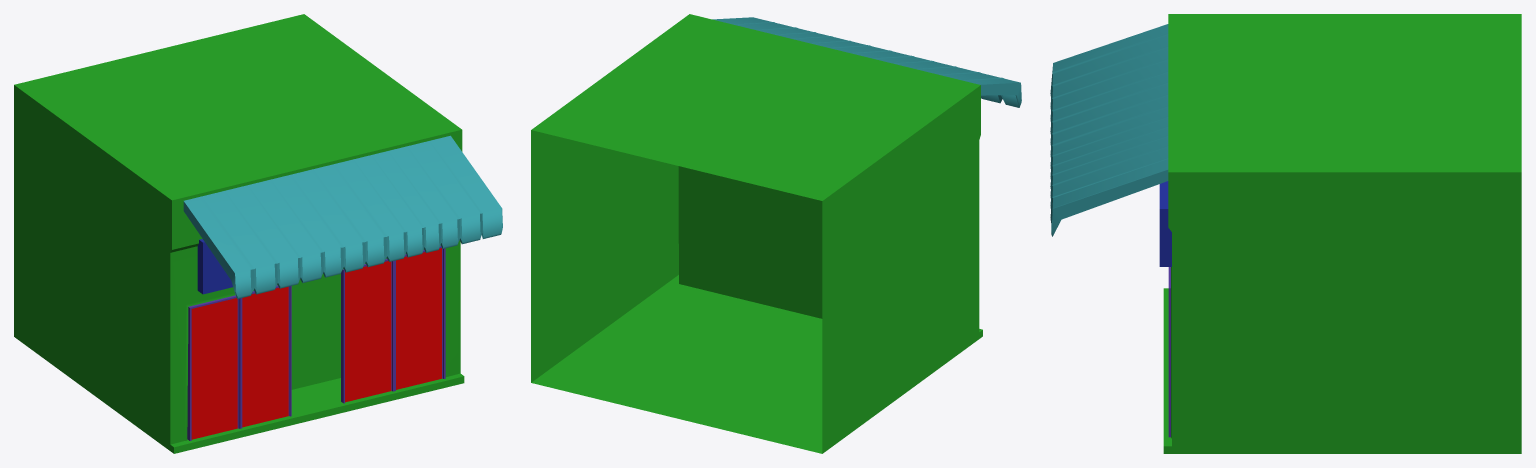
The model's file is Market_high.fbx.
3 renders of one model, left to right at view 1: azimuth 30°, elevation 25°; view 2: azimuth 150°, elevation 25°; view 3: azimuth 270°, elevation 25°, orthographic. The views are drawn at different scales.
Visible parts, largest first — view 1: Market_high; view 2: Market_high; view 3: Market_high.
Part boxes in pixels (x1=…): Market_high: x1=14, y1=14, x2=502, y2=453; Market_high: x1=531, y1=14, x2=1021, y2=453; Market_high: x1=1050, y1=14, x2=1521, y2=453.
Size of the model in its own units: 1.06 by 0.8801 by 1.33.
